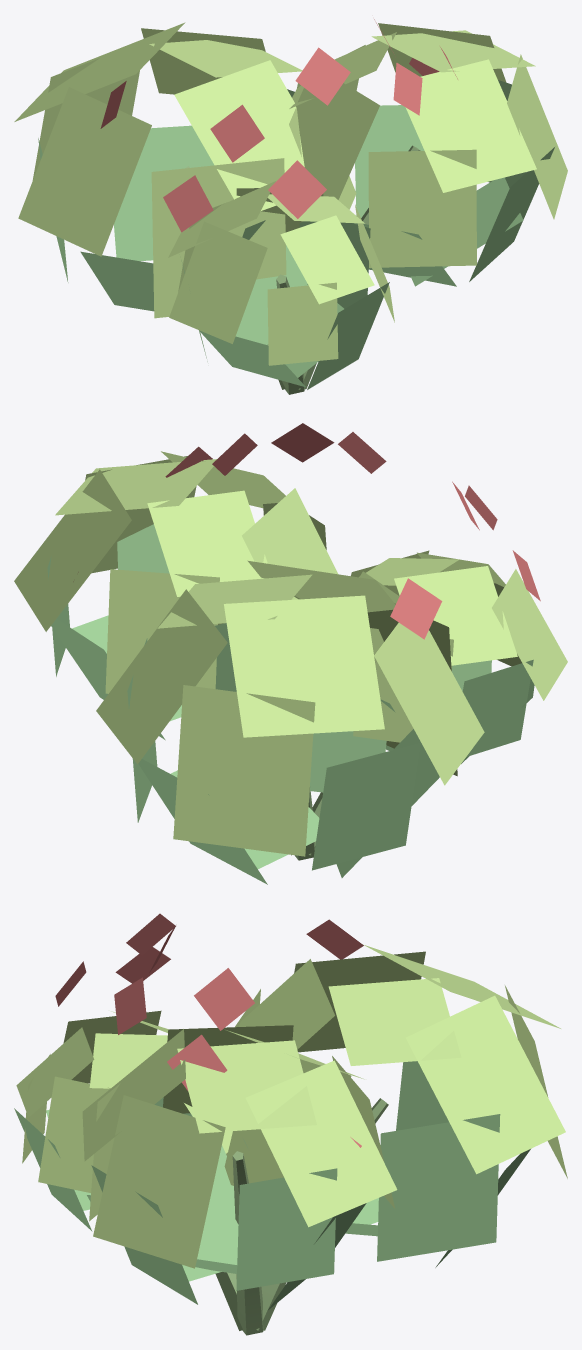
Rendered from plant_flower_a.glb.
3 renders of one model, top to bottom at view 1: azimuth 30°, elevation 25°; view 2: azimuth 150°, elevation 25°; view 3: azimuth 270°, elevation 25°, orthographic. The views are drawn at different scales.
Parts seen in each view (by area): view 1: plant_flower_a; view 2: plant_flower_a; view 3: plant_flower_a.
Part boxes in pixels (x1,y1,x2,y2): plant_flower_a: (14,19,567,394); plant_flower_a: (14,423,567,884); plant_flower_a: (14,913,567,1335).
Size of the model in its own units: 1.94 by 1.52 by 1.9.
